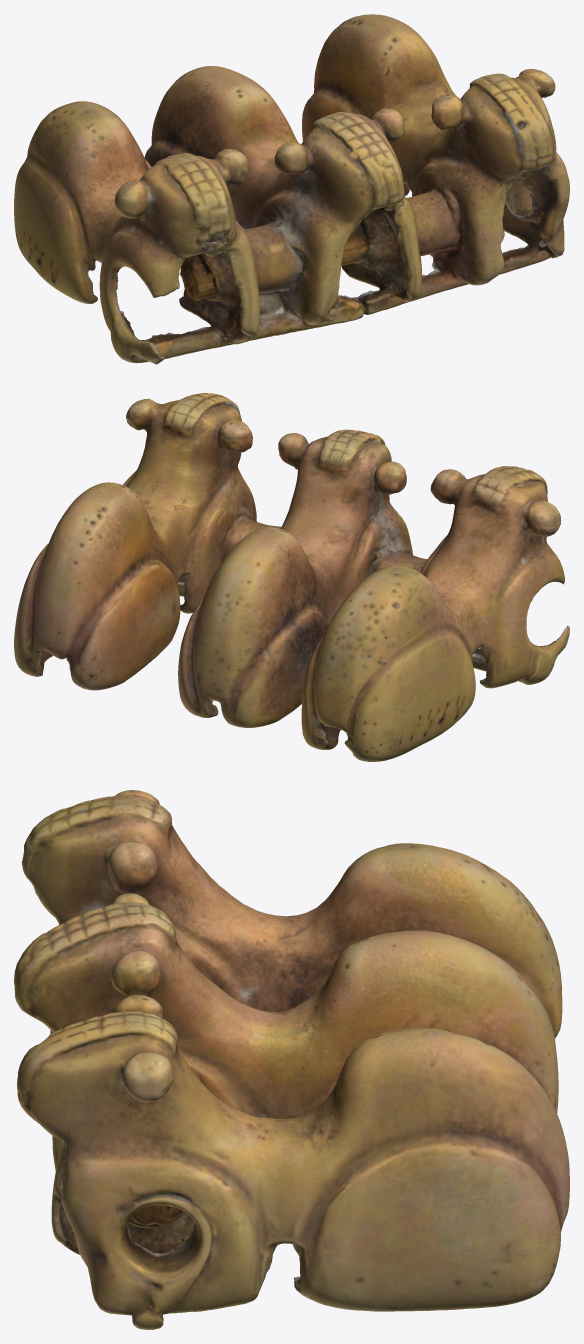
File: pendant_quimbaya_culture_tres.glb
3 views of the same model, one above another, from view 1: azimuth 30°, elevation 25°; view 2: azimuth 150°, elevation 25°; view 3: azimuth 270°, elevation 25° (orthographic). The views are drawn at different scales.
Parts seen in each view (by area): view 1: 17464_LP; view 2: 17464_LP; view 3: 17464_LP.
Part boxes in pixels (x1,y1,x2,y2): 17464_LP: (14, 14, 569, 364); 17464_LP: (14, 393, 569, 761); 17464_LP: (14, 790, 569, 1329).
Size of the model in its own units: 0.0333 by 0.0144 by 0.0256.
1 material, 1 textured.
